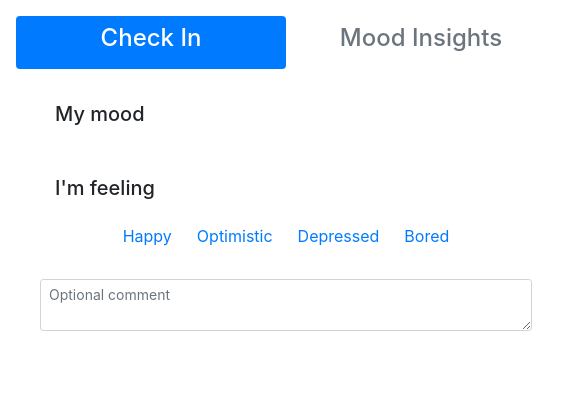
App - as a user › when I check in my mood and view my mood insights › I can see Mood Insights and hide the Check In page
What coordinates should you click on to do the following:
click the text "Happy"
I would click on:
 (147, 235)
Its box is [123,224,172,246].
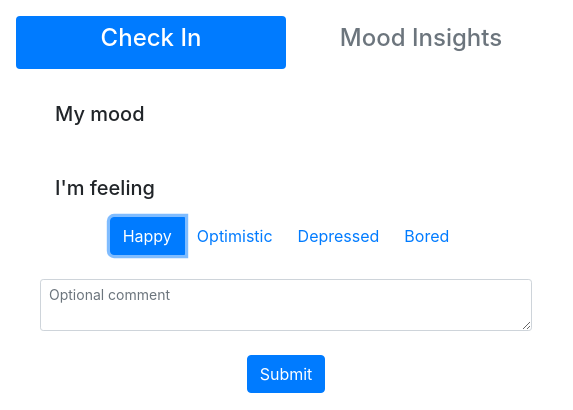
What coordinates should you click on to do the following:
click the button "Submit"
I would click on:
 (286, 374)
Its box is [247,355,325,393].
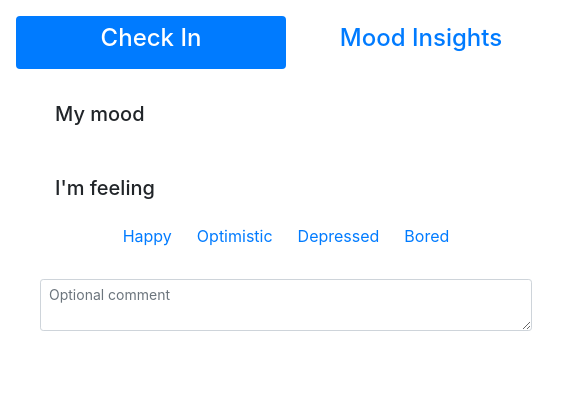
What coordinates should you click on to do the following:
click the link "Mood Insights"
I would click on:
 (421, 38)
Its box is [340,23,502,52].
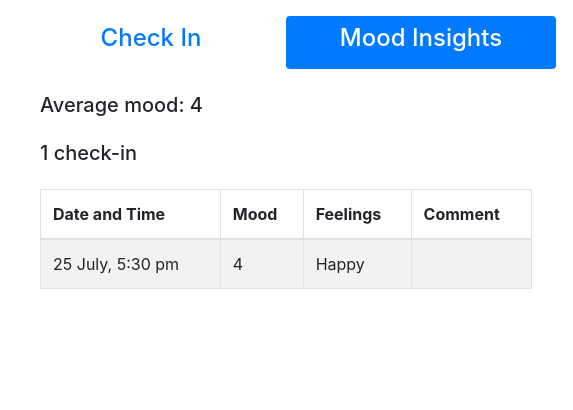
Check: the heading "I'm feeling" is gone
